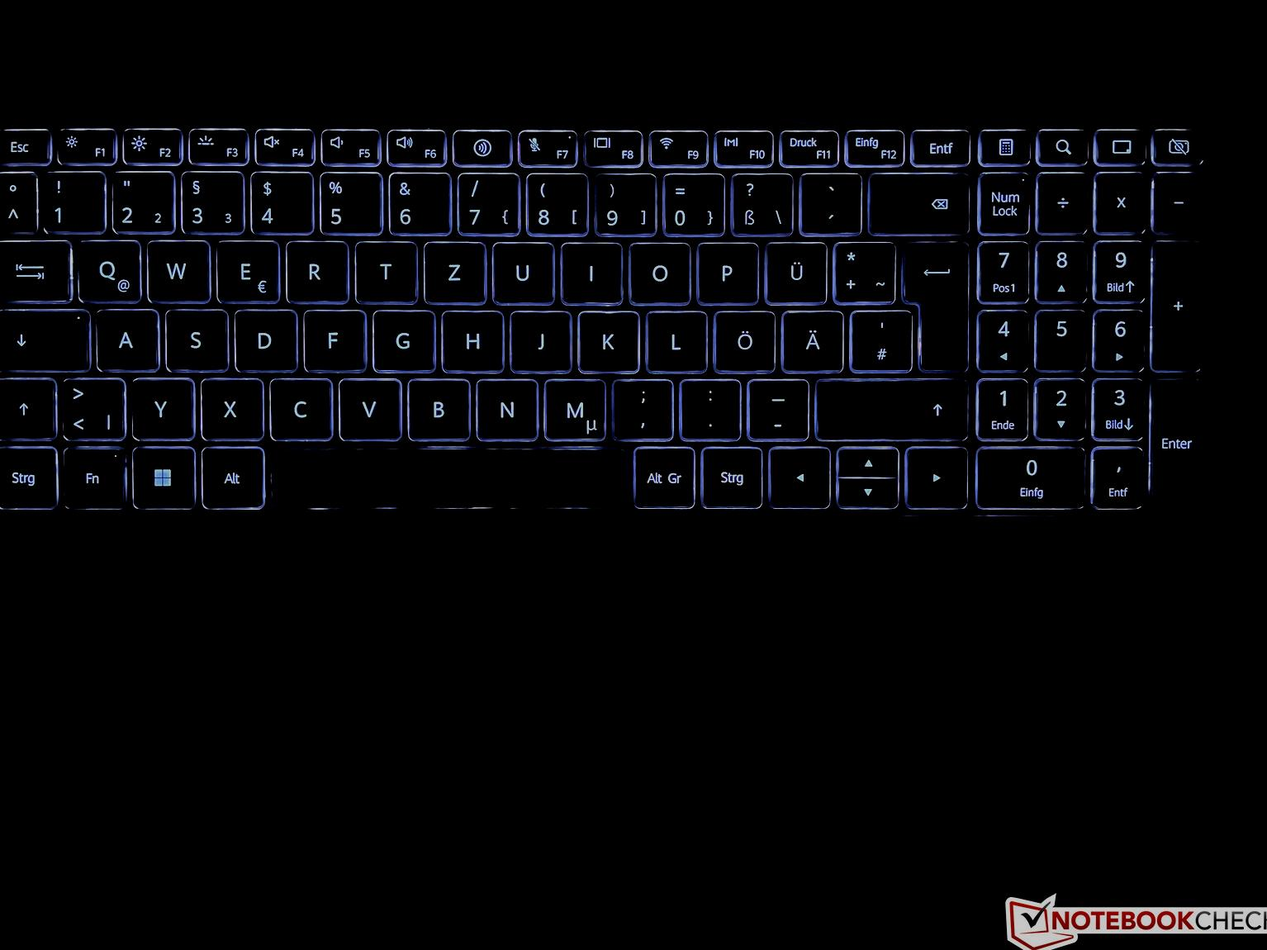0: (660, 169, 724, 235)
1: (40, 166, 105, 232)
2: (110, 166, 175, 233)
3: (178, 166, 243, 234)
4: (249, 168, 313, 233)
5: (316, 168, 381, 233)
6: (386, 168, 450, 234)
7: (455, 169, 520, 235)
8: (523, 169, 586, 235)
9: (591, 169, 656, 235)
a: (93, 304, 159, 370)
accent: (797, 168, 861, 233)
ae: (780, 306, 844, 371)
alt-left: (197, 444, 264, 508)
altgr-right: (630, 443, 695, 507)
b: (404, 375, 470, 439)
c: (266, 373, 333, 439)
caret: (1, 168, 36, 233)
comma: (609, 374, 672, 439)
d: (231, 305, 297, 371)
del: (866, 169, 969, 234)
e: (213, 235, 279, 302)
enter: (899, 235, 968, 370)
f: (301, 305, 365, 369)
g: (369, 306, 434, 371)
h: (439, 305, 503, 371)
hash: (847, 306, 912, 370)
i: (558, 237, 622, 302)
j: (507, 306, 571, 371)
k: (576, 306, 639, 372)
keyboard: (1, 113, 1237, 525)
l: (643, 306, 706, 371)
less: (59, 373, 125, 440)
m: (540, 374, 605, 439)
minus: (743, 375, 809, 438)
n: (472, 374, 539, 439)
o: (626, 237, 691, 303)
oe: (711, 306, 776, 371)
p: (695, 237, 758, 303)
plus: (831, 236, 894, 302)
point: (676, 374, 741, 438)
q: (74, 235, 142, 302)
r: (282, 236, 349, 302)
s: (162, 305, 228, 370)
shift-left: (1, 374, 55, 439)
shift-lock: (1, 305, 88, 369)
shift-right: (813, 373, 967, 439)
space: (267, 444, 626, 507)
ss: (728, 169, 792, 235)
strg-left: (1, 442, 56, 508)
strg-right: (698, 443, 762, 506)
t: (353, 236, 416, 301)
tab: (1, 236, 70, 301)
u: (490, 237, 554, 303)
ue: (762, 237, 827, 303)
v: (336, 374, 402, 439)
w: (144, 235, 210, 302)
x: (198, 374, 263, 439)
y: (127, 373, 194, 439)
z: (420, 237, 486, 302)
